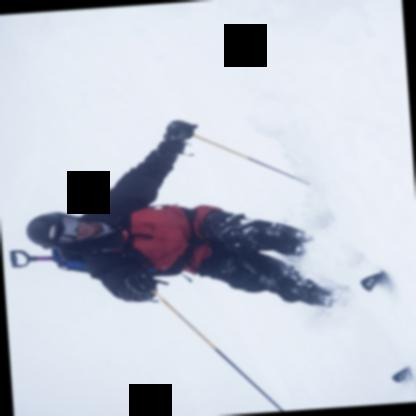backpack: (50, 243, 90, 271)
